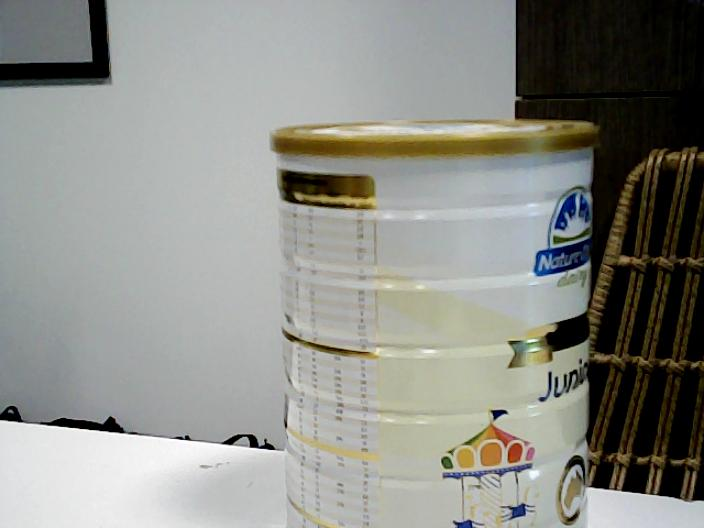Babymilk-powder_900-999g_NonHalal_NonHealthy: (268, 116, 599, 528)
